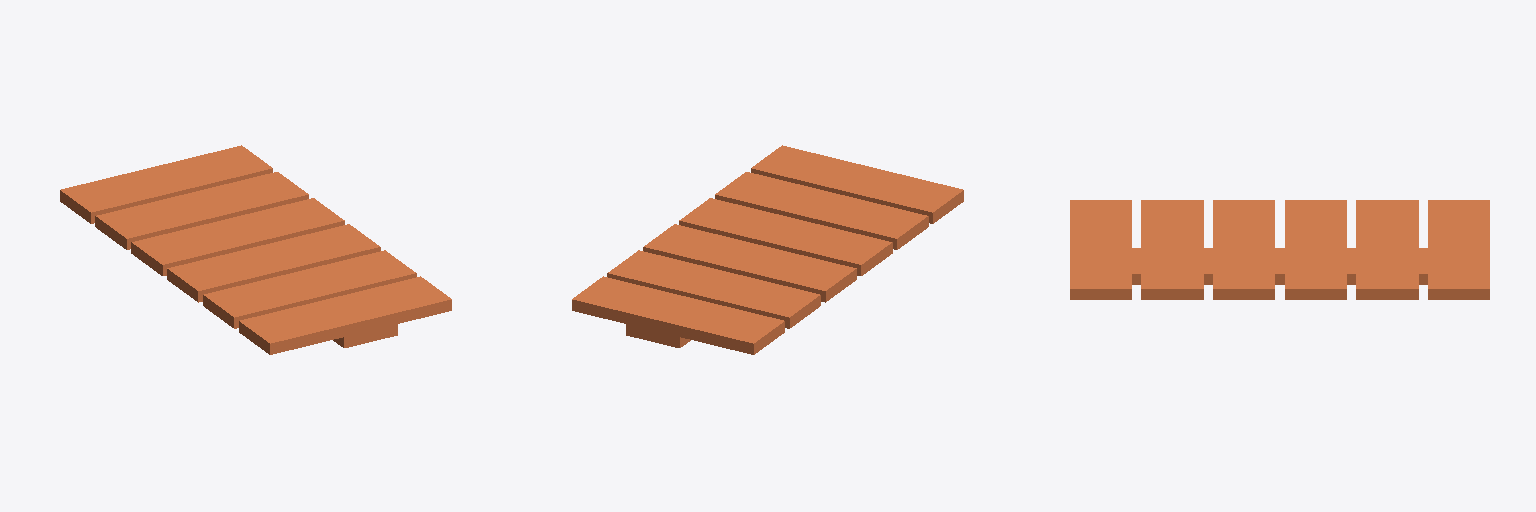
Rendered from planksHalf.obj.
3 renders of one model, left to right at view 1: azimuth 30°, elevation 25°; view 2: azimuth 150°, elevation 25°; view 3: azimuth 270°, elevation 25°, orthographic.
Parts seen in each view (by area): view 1: planks; view 2: planks; view 3: planks.
Boxes of the visible parts, box(x1,y1,x2,y2) form: planks: box(60, 145, 451, 354); planks: box(572, 145, 963, 354); planks: box(1070, 200, 1489, 299).
Size of the model in its own units: 0.5 by 0.06 by 1.